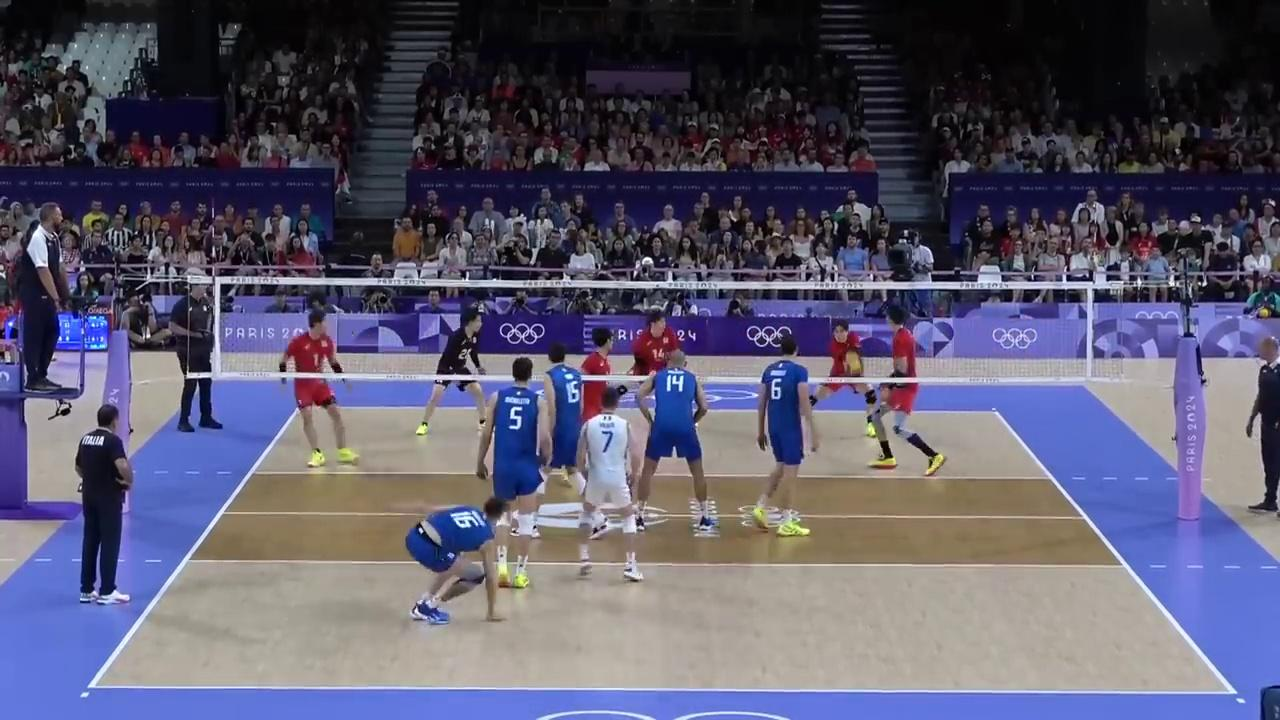ball: (843, 350, 861, 373)
